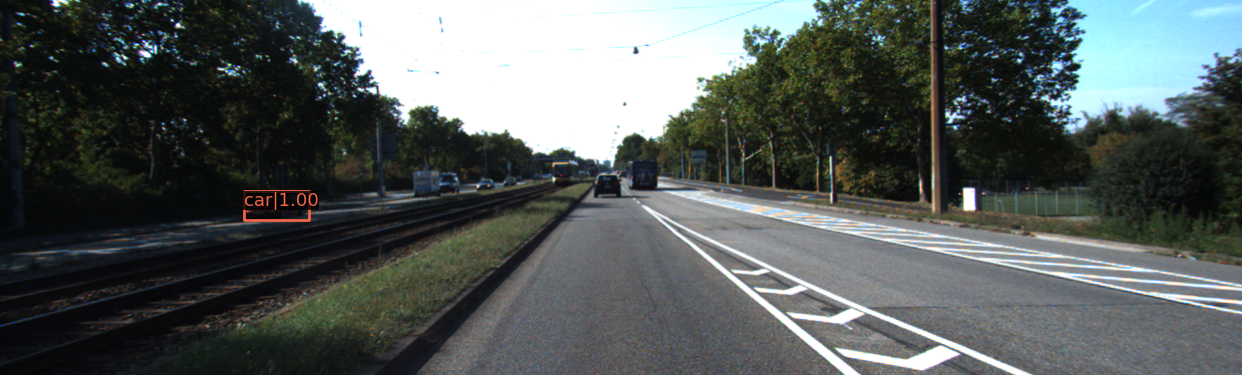car: (245, 194, 307, 223), (595, 175, 620, 198)
